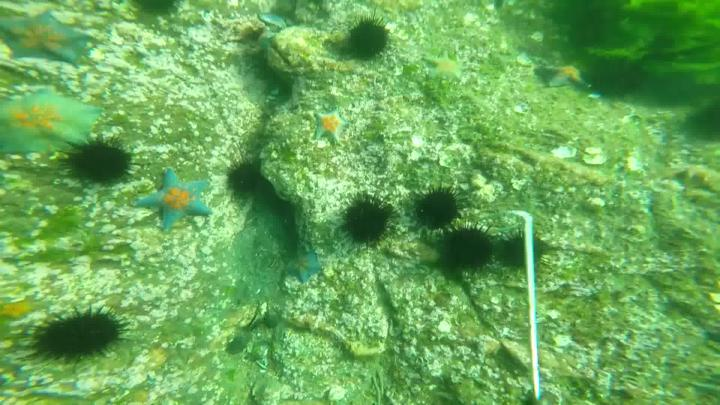echinus: (30, 307, 130, 364), (66, 137, 139, 187), (338, 197, 393, 249), (446, 222, 494, 274), (503, 228, 552, 274), (345, 18, 390, 64), (421, 186, 463, 233), (224, 153, 259, 194)
scallop: (586, 148, 609, 165), (552, 146, 577, 161), (625, 153, 645, 171), (662, 179, 685, 193), (518, 51, 534, 67)
starfish: (1, 88, 104, 158), (1, 11, 94, 70), (131, 170, 212, 230), (422, 48, 461, 83), (287, 253, 324, 285), (544, 66, 595, 89), (314, 110, 348, 144)
